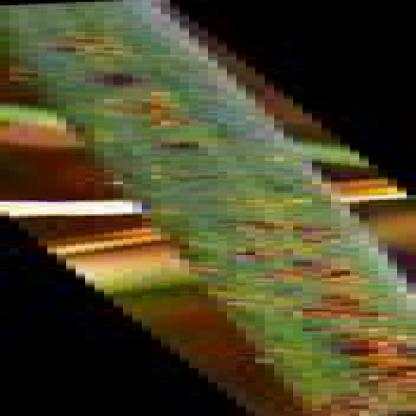wheat Stem Rust: (292, 331, 415, 413), (193, 216, 364, 254), (80, 98, 226, 128), (215, 264, 384, 288), (48, 69, 186, 91), (35, 29, 125, 61), (264, 296, 369, 320)
